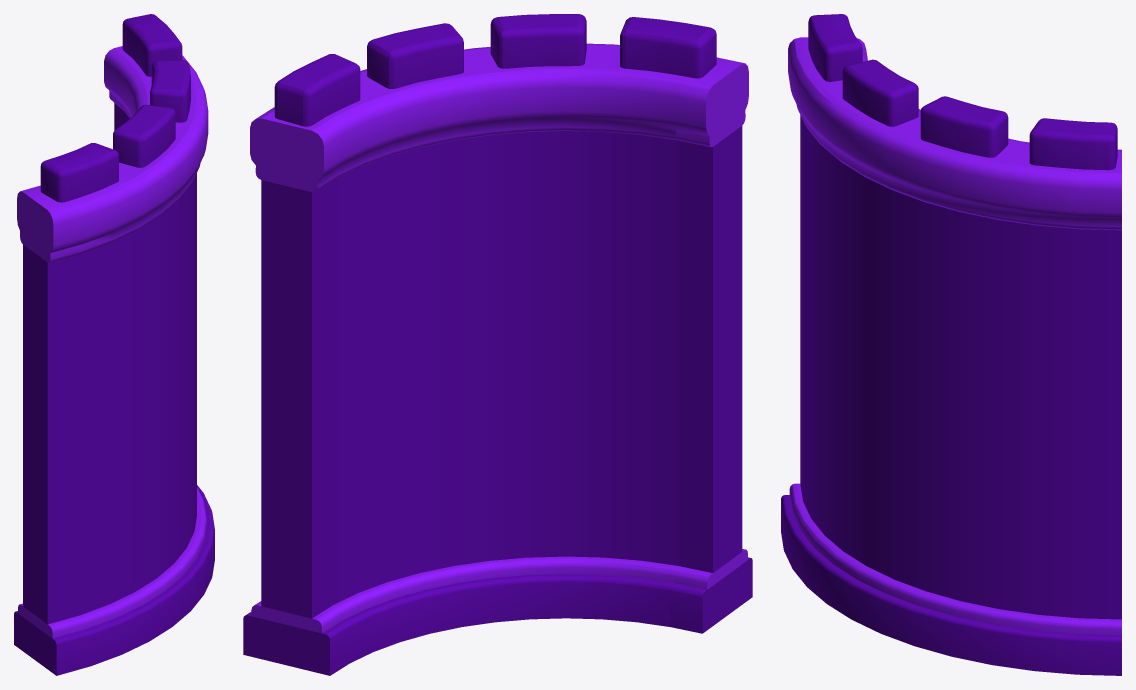
The model's file is Thin wall corner (extra tall).fbx.
3 renders of one model, left to right at view 1: azimuth 30°, elevation 25°; view 2: azimuth 150°, elevation 25°; view 3: azimuth 270°, elevation 25°, orthographic. The views are drawn at different scales.
Visible parts, largest first — view 1: Cube.005; view 2: Cube.005; view 3: Cube.005.
Boxes of the visible parts, x1,y1,x2,y2 form: Cube.005: [14, 14, 214, 675]; Cube.005: [243, 14, 752, 675]; Cube.005: [781, 14, 1121, 675].
Bounding box in the file's own units: 57.77 × 98.52 × 57.77.
1 material, 1 textured.
